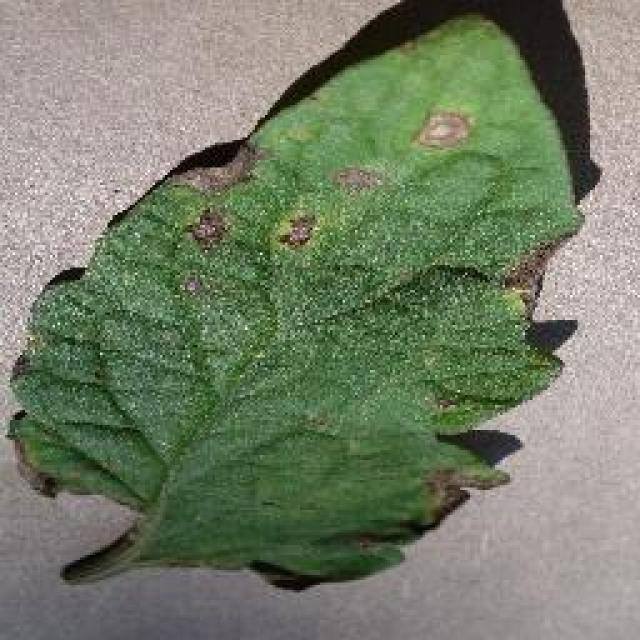leaf blight: (11, 12, 584, 595)
